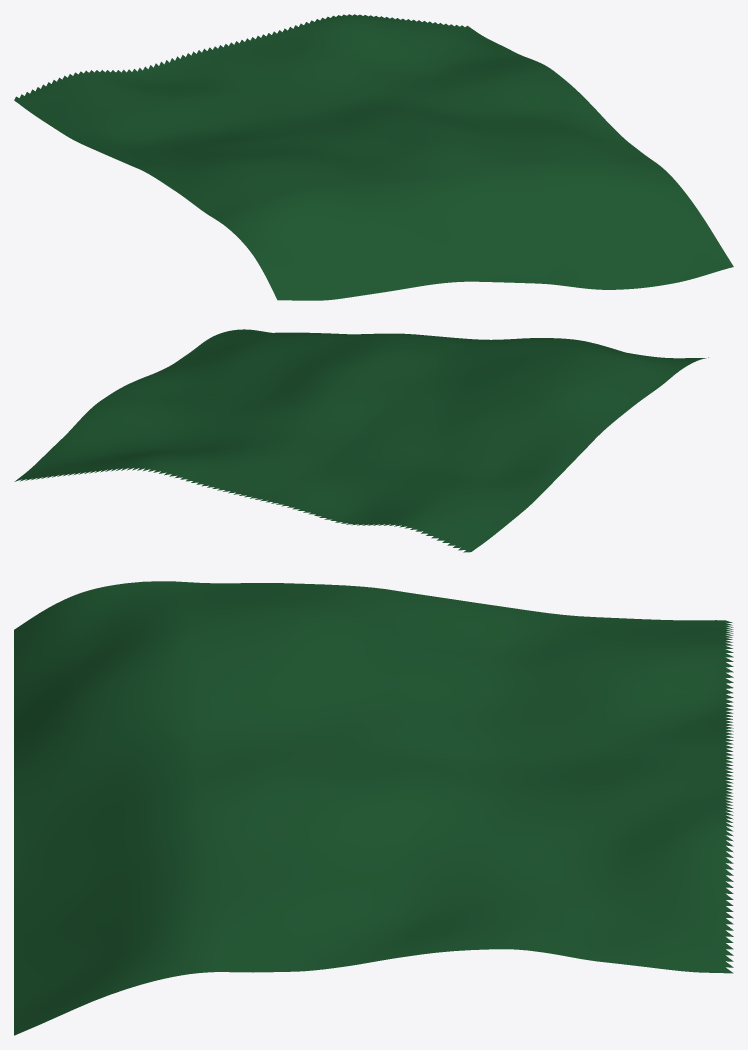
File: payo_land_xm3_ym1_lod1.glb
The picture shows the model from 3 angles, top to bottom: view 1: azimuth 30°, elevation 25°; view 2: azimuth 150°, elevation 25°; view 3: azimuth 270°, elevation 25°; orthographic projection. The views are drawn at different scales.
Parts seen in each view (by area): view 1: payo_land_xm3_ym1; view 2: payo_land_xm3_ym1; view 3: payo_land_xm3_ym1.
Part boxes in pixels (<box>): payo_land_xm3_ym1: <box>14,14,733,300</box>; payo_land_xm3_ym1: <box>14,329,708,552</box>; payo_land_xm3_ym1: <box>14,581,733,1035</box>.
Size of the model in its own units: 255 by 65.9 by 258.
